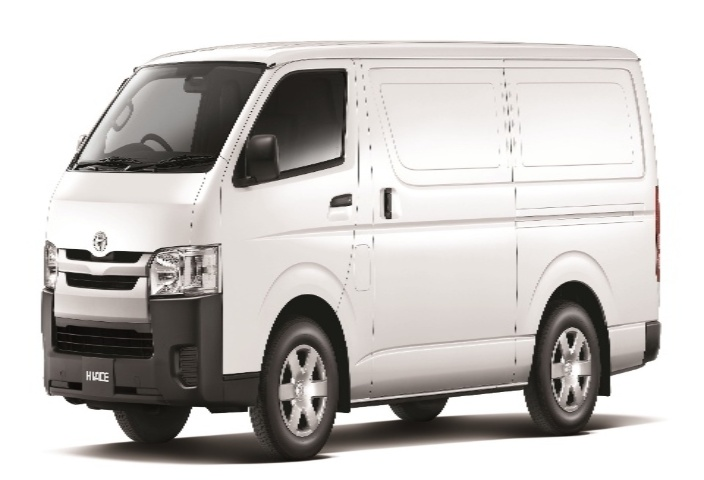van: (22, 36, 673, 456)
